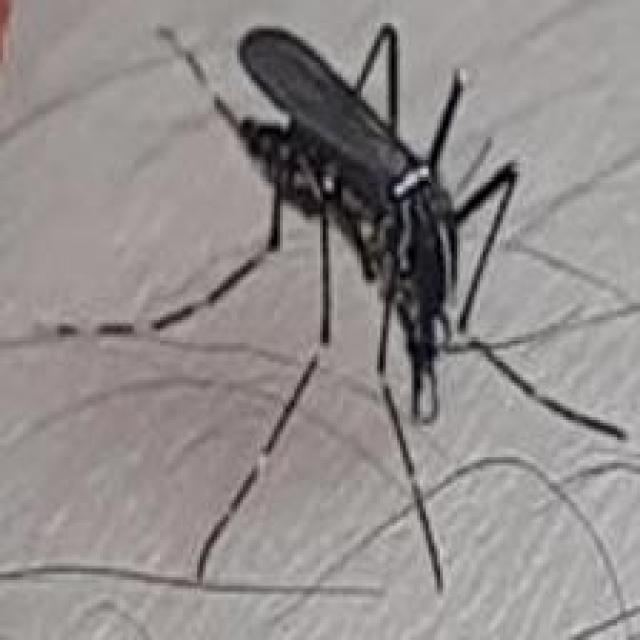Aedes albopictus: (143, 18, 637, 593)
